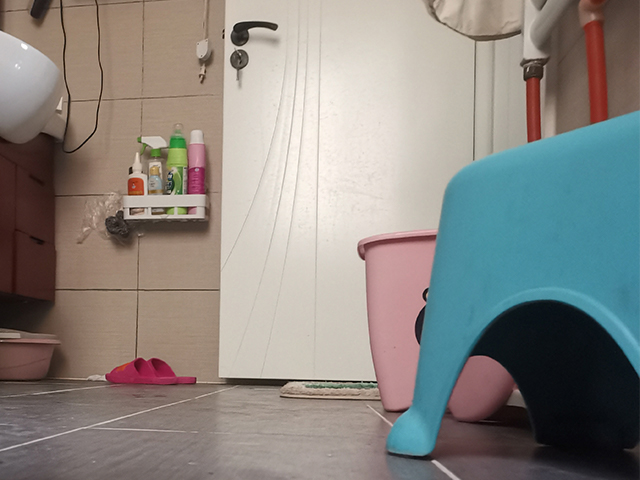carpet: (276, 381, 383, 402)
slippers: (101, 356, 199, 387)
stool: (387, 109, 640, 460)
